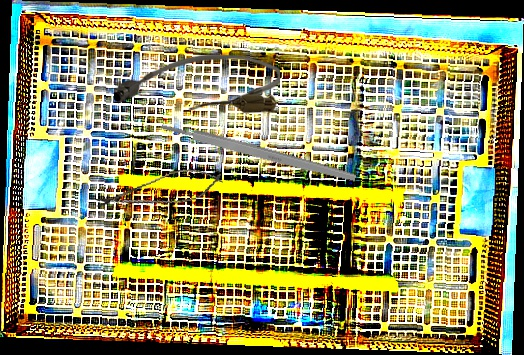Cannula: (114, 54, 280, 113)
Micro Scissor: (92, 161, 226, 221)
Scalpel Handle: (159, 120, 358, 184)
